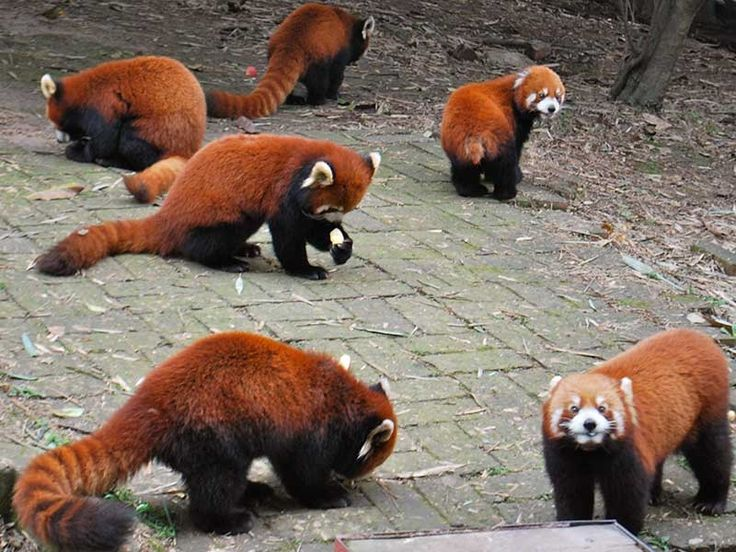red_panda: (21, 336, 405, 552), (78, 141, 388, 285), (540, 328, 735, 527), (39, 54, 207, 194), (209, 7, 386, 113), (440, 66, 569, 202)
